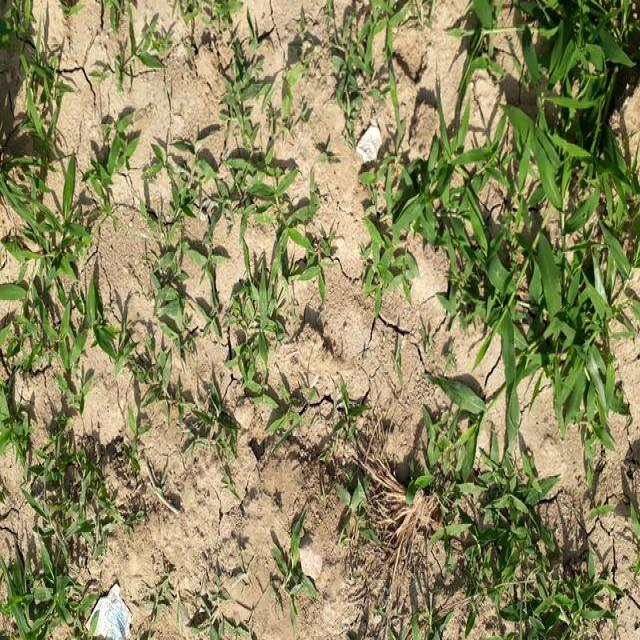weed: (466, 0, 624, 397), (0, 20, 125, 367), (152, 143, 302, 399), (444, 396, 570, 640), (3, 411, 69, 640), (356, 160, 462, 287)
